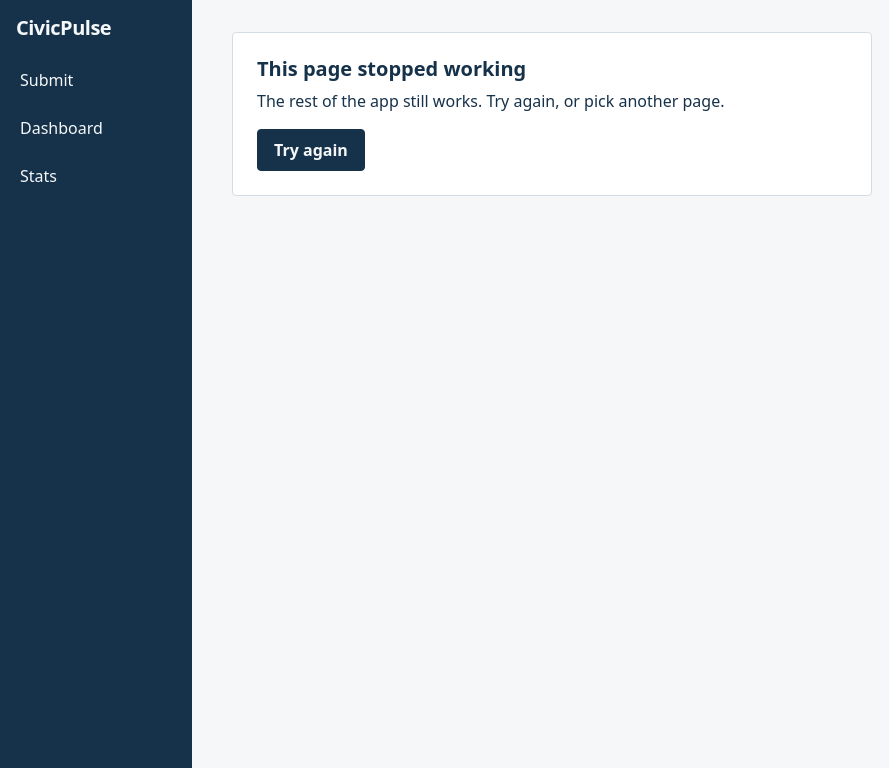
Test: a crashing route is isolated: the nav stays and Try again recovers
Expected: the message shows "This page stopped working", left=257, top=55, right=526, bottom=82
Expected: the navigation bar named "Main" is shown, left=0, top=0, right=192, bottom=767
Click the button "Try again".
click(311, 150)  # box left=257, top=129, right=365, bottom=171
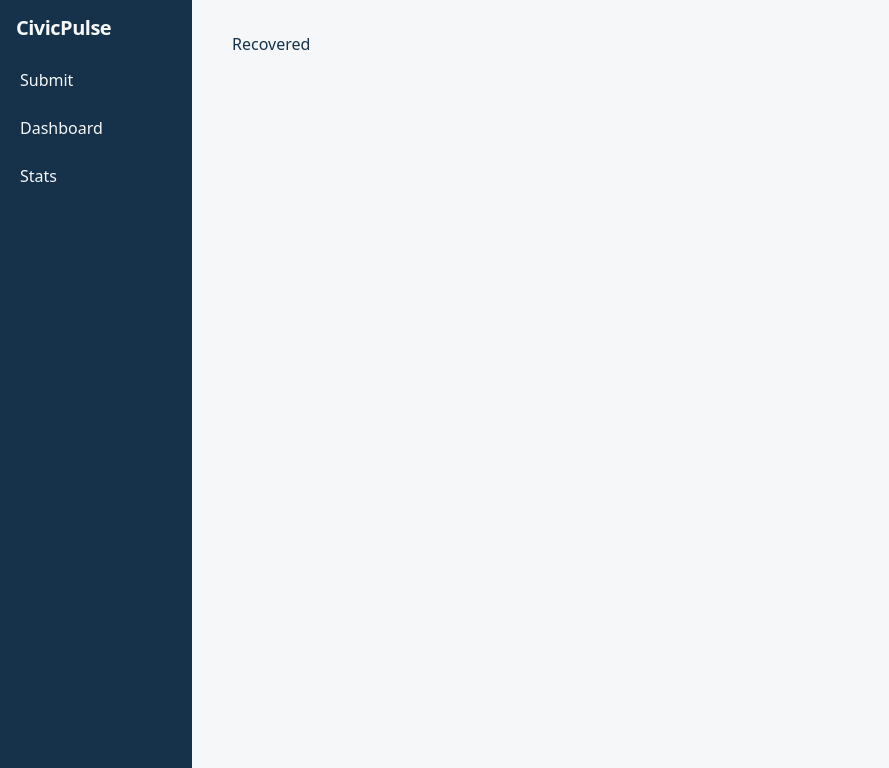
Expected: the heading "Recovered" is shown, left=232, top=33, right=310, bottom=55
